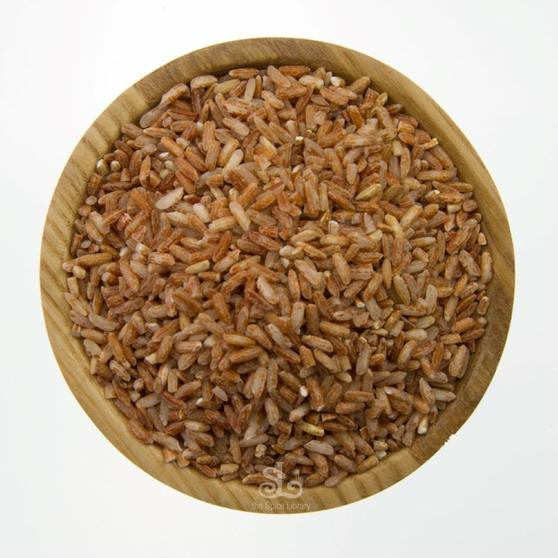rice: (51, 61, 506, 485)
